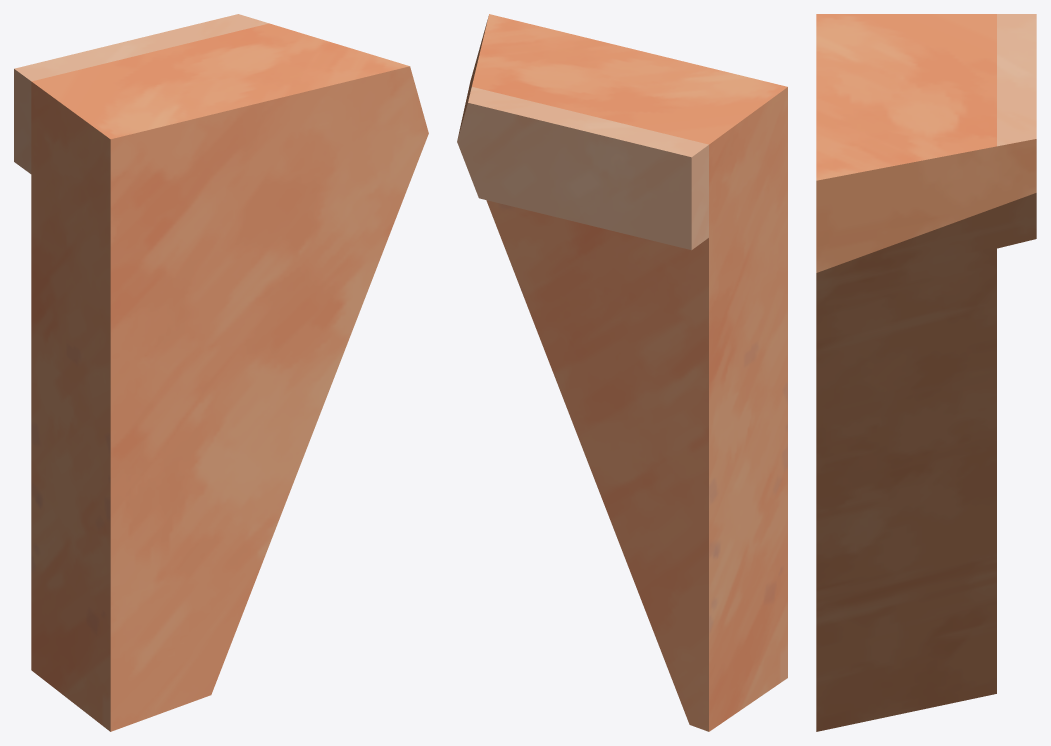
The model's file is wall2_upper_window_s05.fbx.
3 renders of one model, left to right at view 1: azimuth 30°, elevation 25°; view 2: azimuth 150°, elevation 25°; view 3: azimuth 270°, elevation 25°, orthographic. The views are drawn at different scales.
Parts seen in each view (by area): view 1: wall2_upper_window_s05; view 2: wall2_upper_window_s05; view 3: wall2_upper_window_s05.
Boxes of the visible parts, <box> form: wall2_upper_window_s05: <box>14,14,428,731</box>; wall2_upper_window_s05: <box>457,14,787,731</box>; wall2_upper_window_s05: <box>816,14,1036,731</box>.
Bounding box in the file's own units: 2.32 × 4.13 × 1.22.
